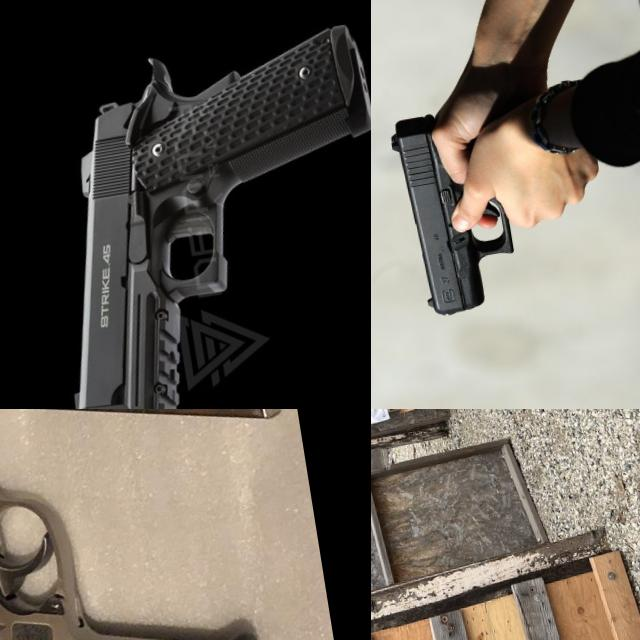handgun: (10, 18, 371, 409), (0, 409, 285, 640), (382, 100, 524, 324), (371, 412, 396, 493)
